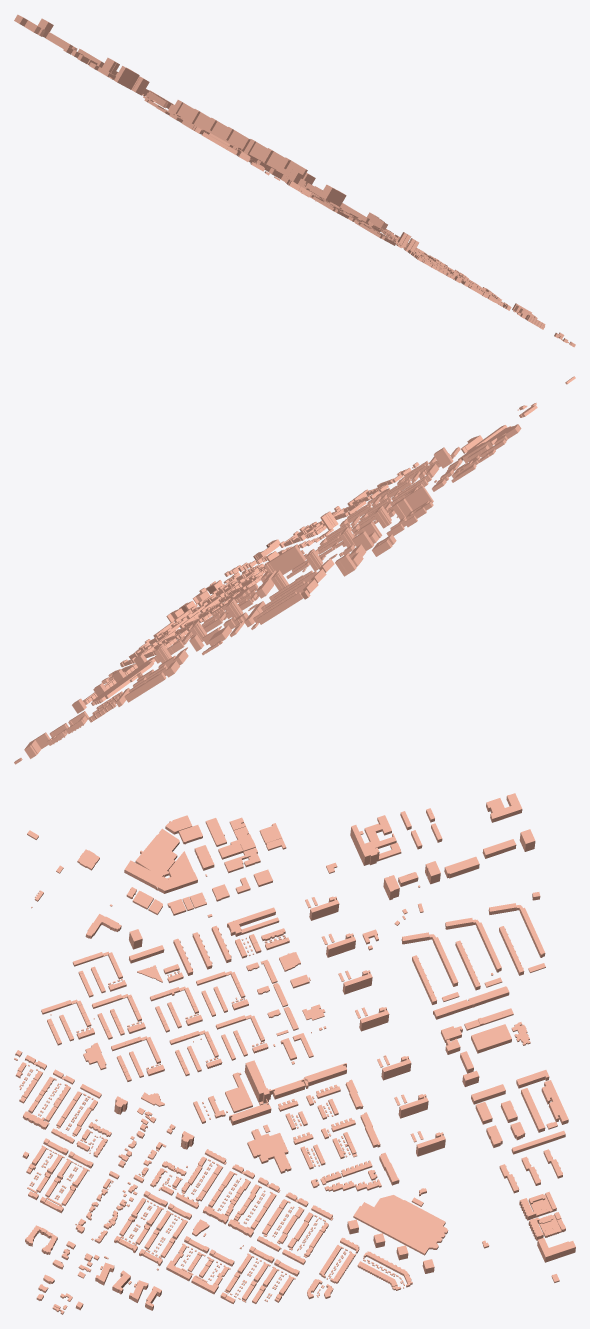
The picture shows the model from 3 angles, top to bottom: view 1: azimuth 30°, elevation 25°; view 2: azimuth 150°, elevation 25°; view 3: azimuth 270°, elevation 25°; orthographic projection. The views are drawn at different scales.
Size of the model in its own units: 1081 by 783 by 1249.
